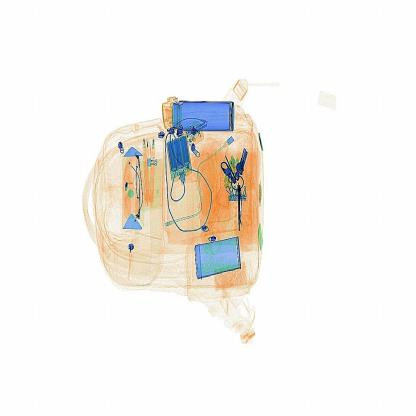knife: (231, 178, 257, 242)
